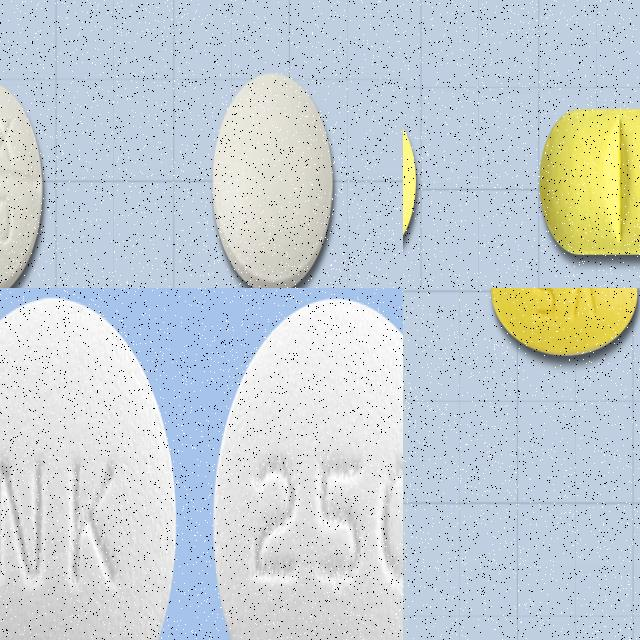CLARIUM: (487, 288, 640, 361)
Ciproc: (210, 289, 403, 640), (0, 294, 181, 640)
Ciprofloxacin Tab- Pharma: (206, 65, 339, 288), (0, 71, 50, 288)
Clarith: (538, 105, 640, 258)
